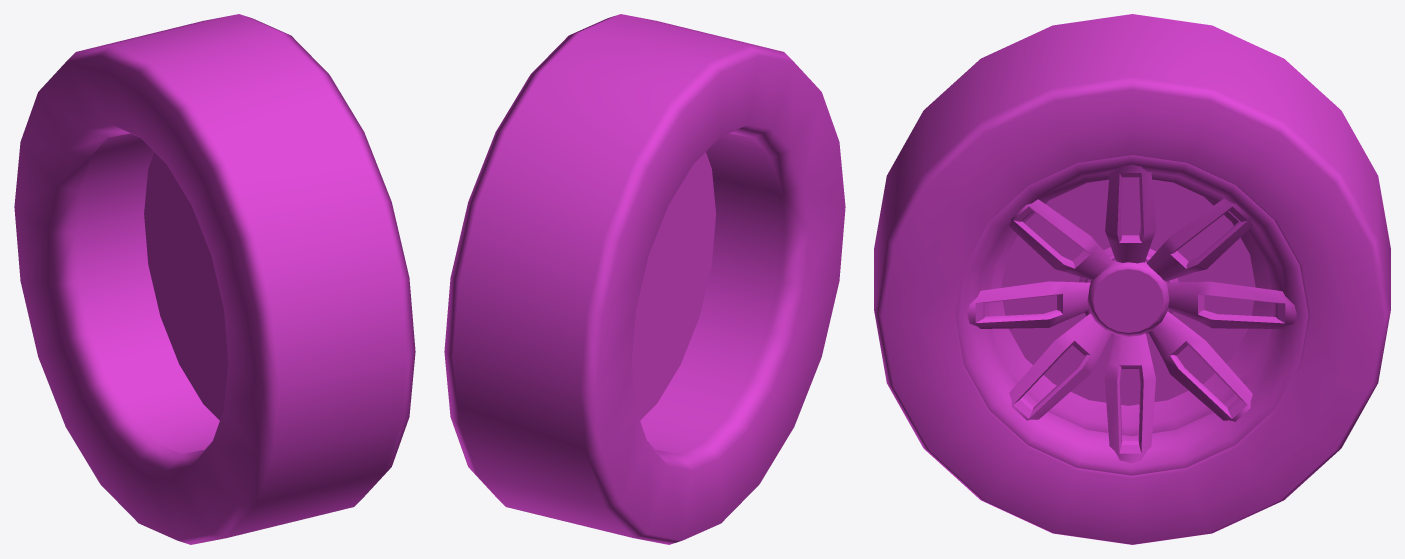
File: Sport_TDR_01_Wheel_01.fbx
The picture shows the model from 3 angles, left to right: view 1: azimuth 30°, elevation 25°; view 2: azimuth 150°, elevation 25°; view 3: azimuth 270°, elevation 25°; orthographic projection.
Visible parts, largest first — view 1: Sport_TDR_01_Wheel_01; view 2: Sport_TDR_01_Wheel_01; view 3: Sport_TDR_01_Wheel_01.
Part boxes in pixels (box(x1,y1,x2,y2)): Sport_TDR_01_Wheel_01: box(14, 14, 415, 544); Sport_TDR_01_Wheel_01: box(444, 14, 845, 544); Sport_TDR_01_Wheel_01: box(874, 14, 1390, 544).
Size of the model in its own units: 24.97 by 67.86 by 67.86.
